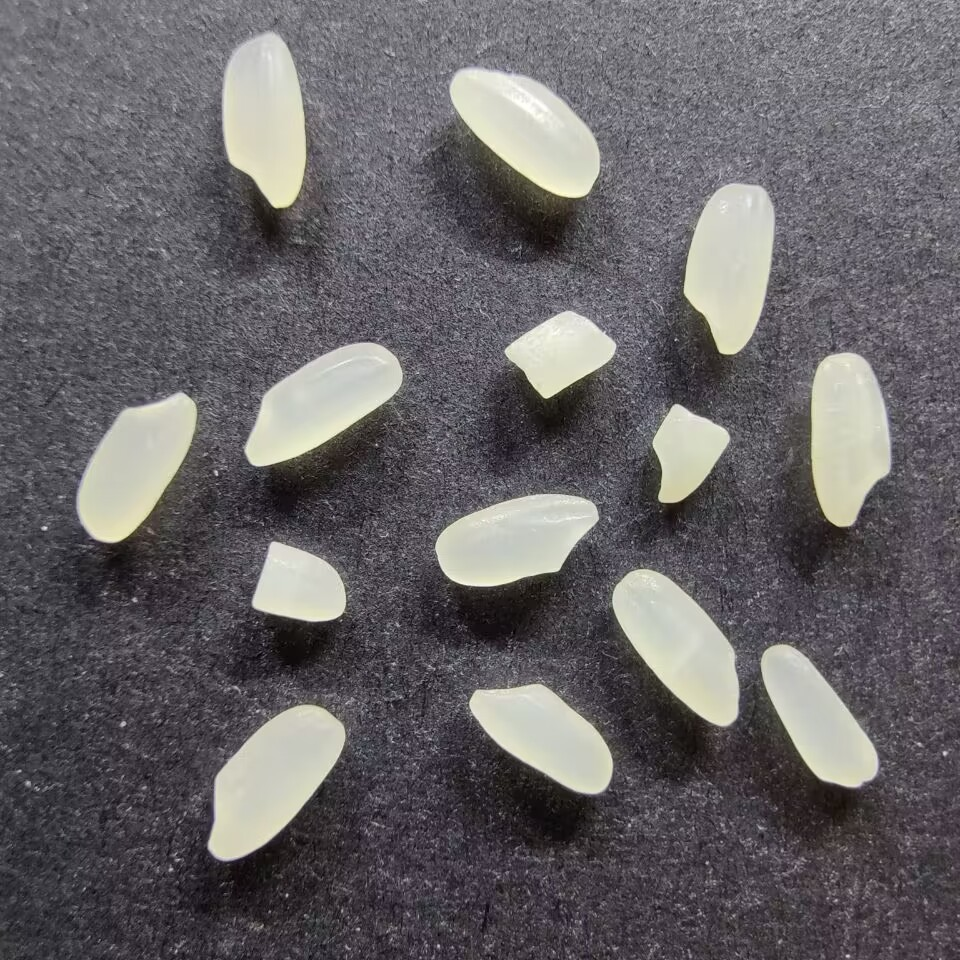broken: (500, 309, 618, 401), (649, 403, 730, 505), (250, 539, 346, 623)
rice: (204, 703, 348, 864), (611, 568, 743, 729), (450, 66, 603, 199), (244, 341, 405, 467), (74, 391, 198, 543), (760, 643, 880, 790), (468, 683, 616, 796), (681, 181, 776, 357), (435, 492, 600, 589), (219, 30, 307, 210), (807, 352, 892, 529)
